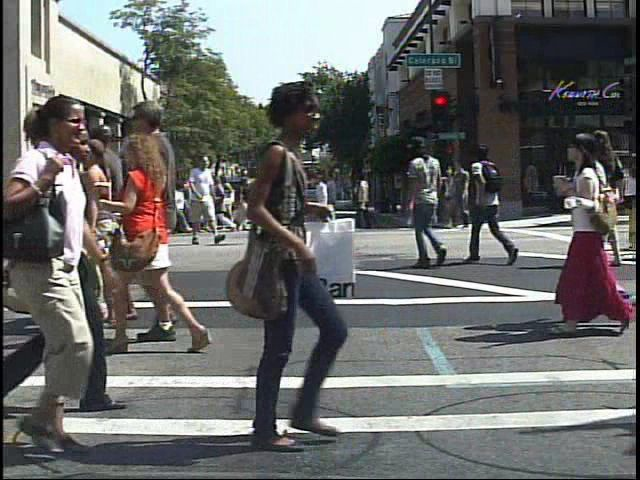person: (200, 77, 365, 459), (4, 91, 148, 467), (103, 125, 215, 355), (114, 97, 185, 350), (552, 121, 631, 347), (462, 138, 525, 271), (403, 129, 452, 275), (587, 127, 617, 342), (183, 152, 218, 249), (140, 159, 171, 239), (126, 161, 155, 244), (404, 161, 433, 233), (52, 183, 78, 246), (84, 183, 104, 225), (80, 164, 87, 247)
